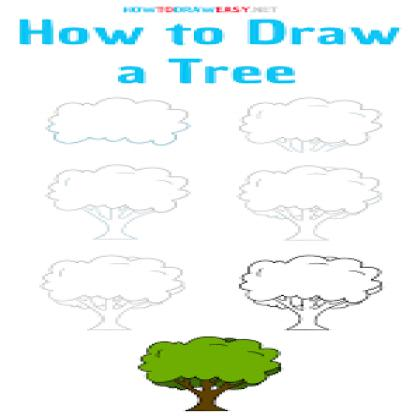branch_cut: (270, 296, 348, 315)
crown_cloud: (237, 253, 382, 310)
root_only: (286, 324, 332, 334)
trunk_straight: (290, 314, 326, 324)
